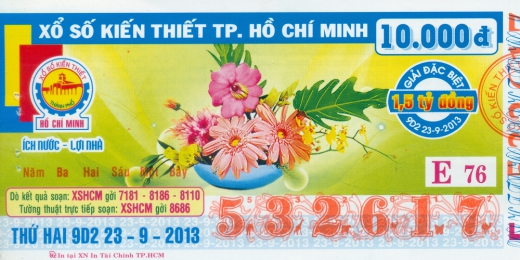serial_zone: (210, 194, 504, 249)
